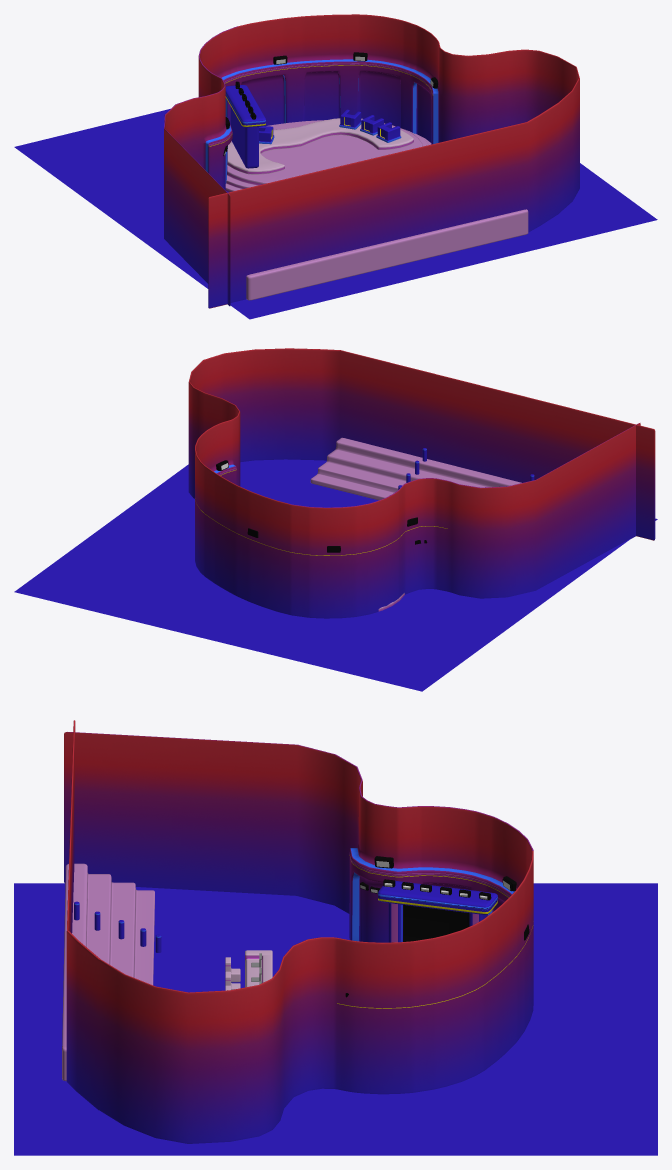
File: Emvironment2.fbx
The picture shows the model from 3 angles, top to bottom: view 1: azimuth 30°, elevation 25°; view 2: azimuth 150°, elevation 25°; view 3: azimuth 270°, elevation 25°; orthographic projection. The views are drawn at different scales.
Visible parts, largest first — view 1: wall2, wall1; view 2: wall2, wall1; view 3: wall2, wall1, screen, polySurface10.
Part boxes in pixels (box(x1,y1,x2,y2)): wall2: box(14, 14, 657, 319); wall1: box(208, 103, 559, 308); wall2: box(14, 348, 657, 691); wall1: box(286, 348, 655, 540); wall2: box(14, 732, 657, 1155); wall1: box(66, 720, 99, 1110); screen: box(403, 905, 469, 941); polySurface10: box(245, 950, 272, 987).
Size of the model in its own units: 162 by 40.43 by 155.
2 materials, 2 textured.
